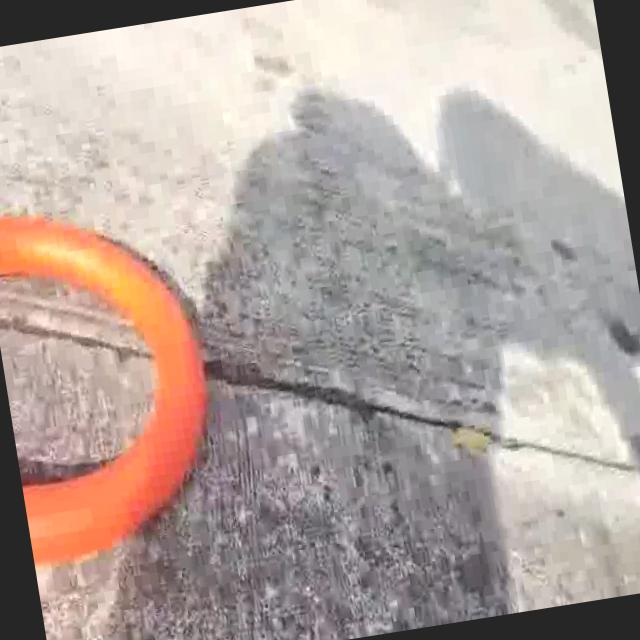note: (0, 187, 235, 570)
